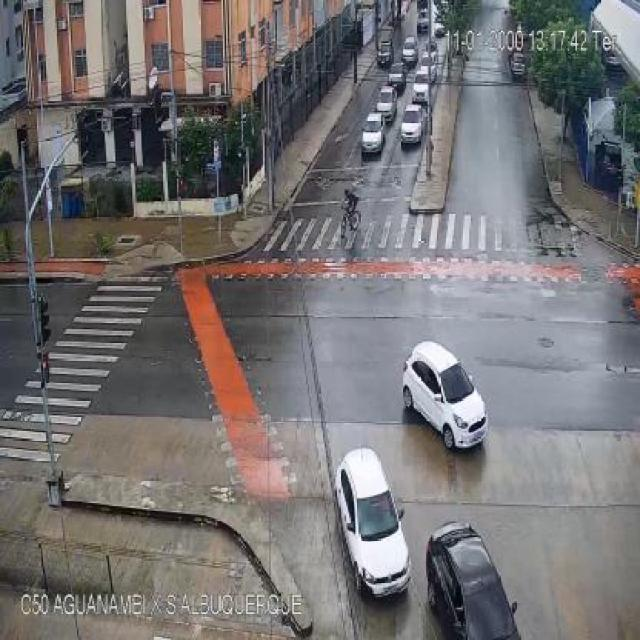Car: (335, 448, 413, 601), (426, 518, 520, 640), (405, 341, 490, 452), (359, 112, 386, 154), (399, 104, 425, 144), (376, 84, 396, 121), (412, 70, 433, 103), (376, 40, 394, 66), (510, 51, 524, 74)
Cycle: (335, 204, 364, 240)
Van: (400, 35, 419, 64)
